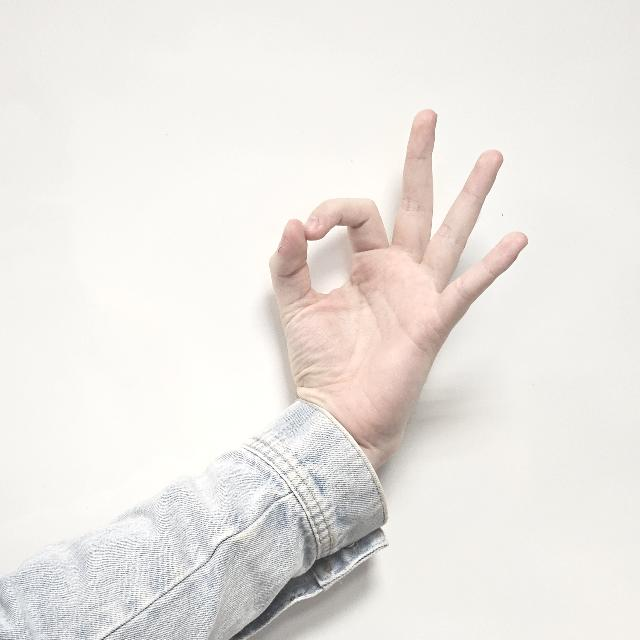Bolinha: (271, 100, 529, 467)
